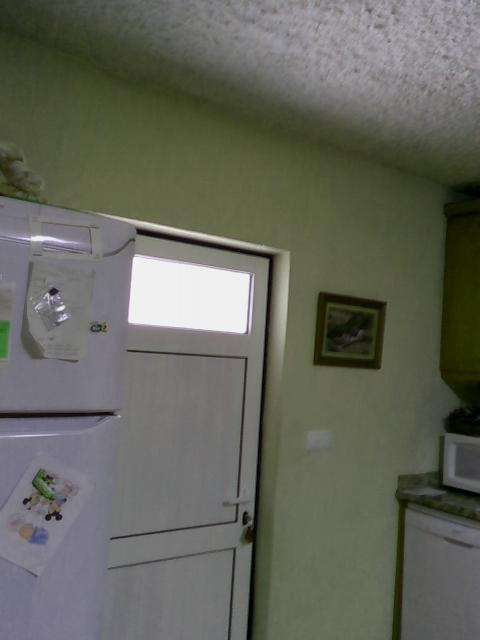closed_door: (135, 223, 278, 639)
